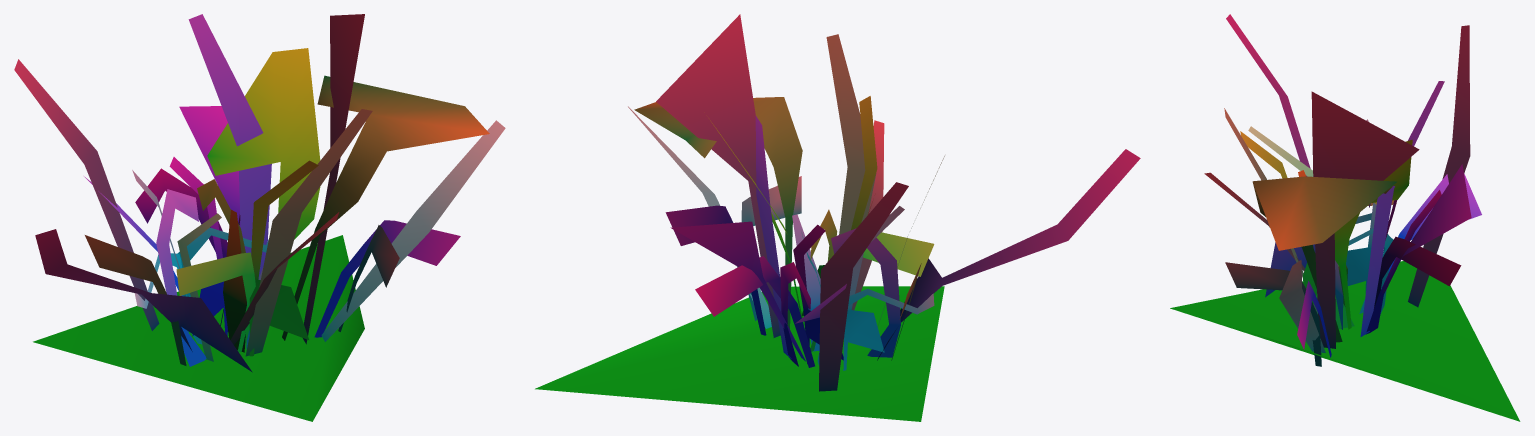
File: Dry_Grass_tbbqejqr_Mid_tbbqejqr_VarD_LOD1.fbx
The picture shows the model from 3 angles, left to right: view 1: azimuth 30°, elevation 25°; view 2: azimuth 150°, elevation 25°; view 3: azimuth 270°, elevation 25°; orthographic projection. The views are drawn at different scales.
Parts seen in each view (by area): view 1: _6374_VarD_LOD2; view 2: _6374_VarD_LOD2; view 3: _6374_VarD_LOD2.
Part boxes in pixels (<box>): _6374_VarD_LOD2: <box>14,14,505,421</box>; _6374_VarD_LOD2: <box>535,14,1140,421</box>; _6374_VarD_LOD2: <box>1170,14,1520,421</box>.
Bounding box in the file's own units: 22.17 × 13.92 × 15.32.
